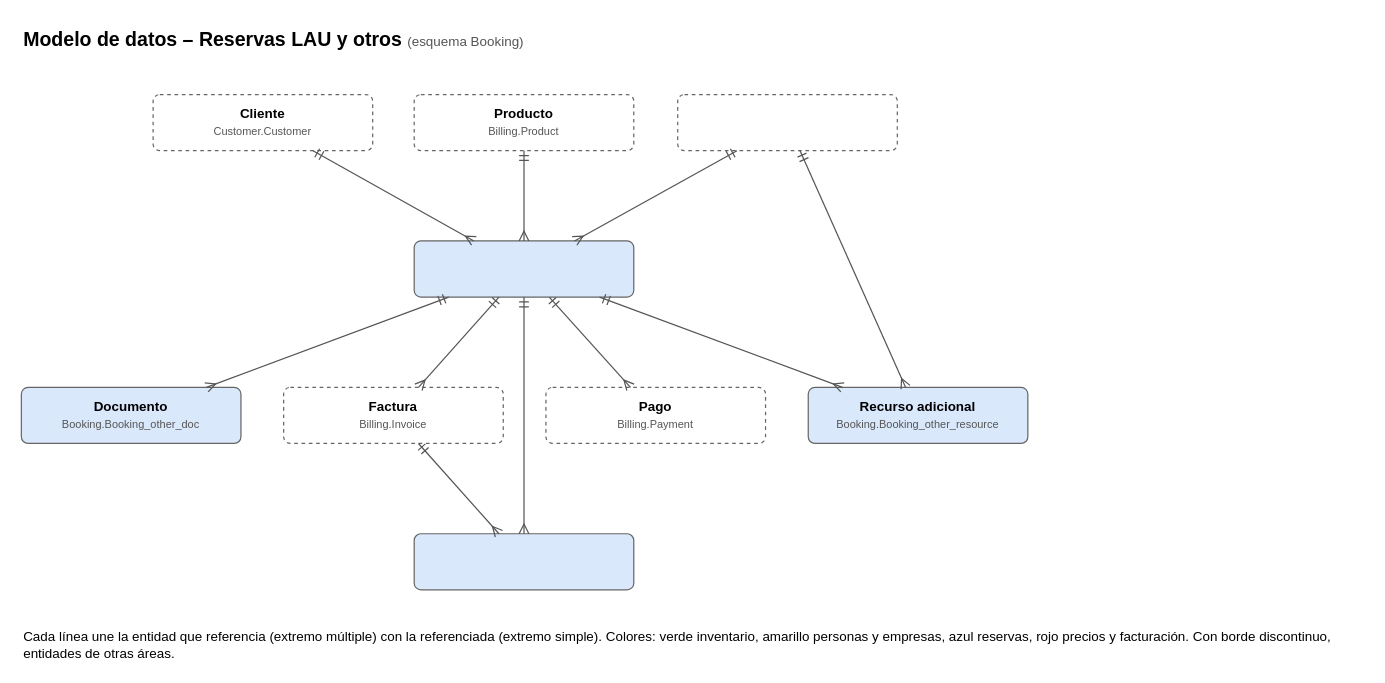
This 1385x683 diagram has some shape labels left out. The shapes that lost their labels are listed below. From the top down, each one's centre as x and y in pixels, then its label:
(x=786, y=122): Recurso Resource.Resource
(x=523, y=268): Reserva LAU y otros Booking.Booking_other
(x=523, y=561): Concepto extra Booking.Booking_other_service
